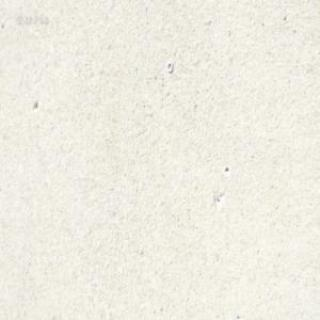Washertrack_idkeyframe: (165, 61, 172, 73)
